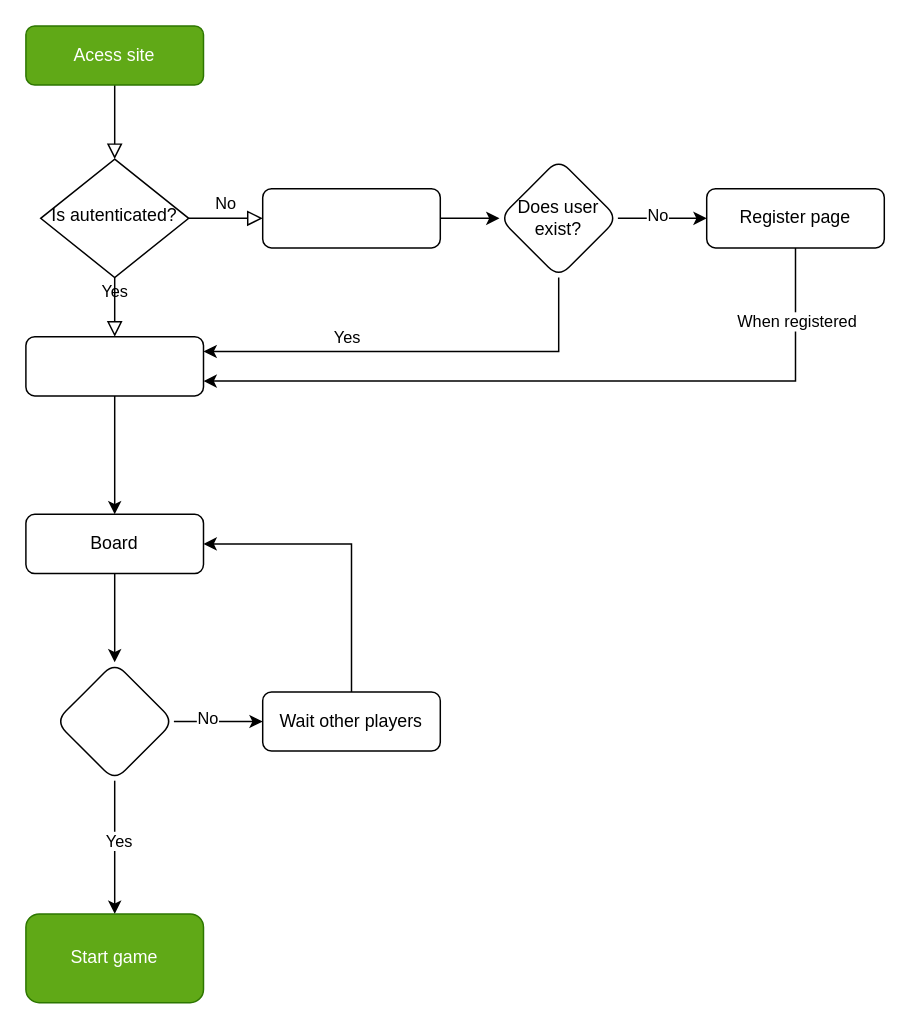
This 910x1029 diagram has some shape labels left out. Here are the shapes that lost their labels. From the top down, the centre of each, then its label:
At pixel 350 217: "Log in page".
At pixel 114 365: "Home/Rules page".
At pixel 114 721: "Are there enough players?".
